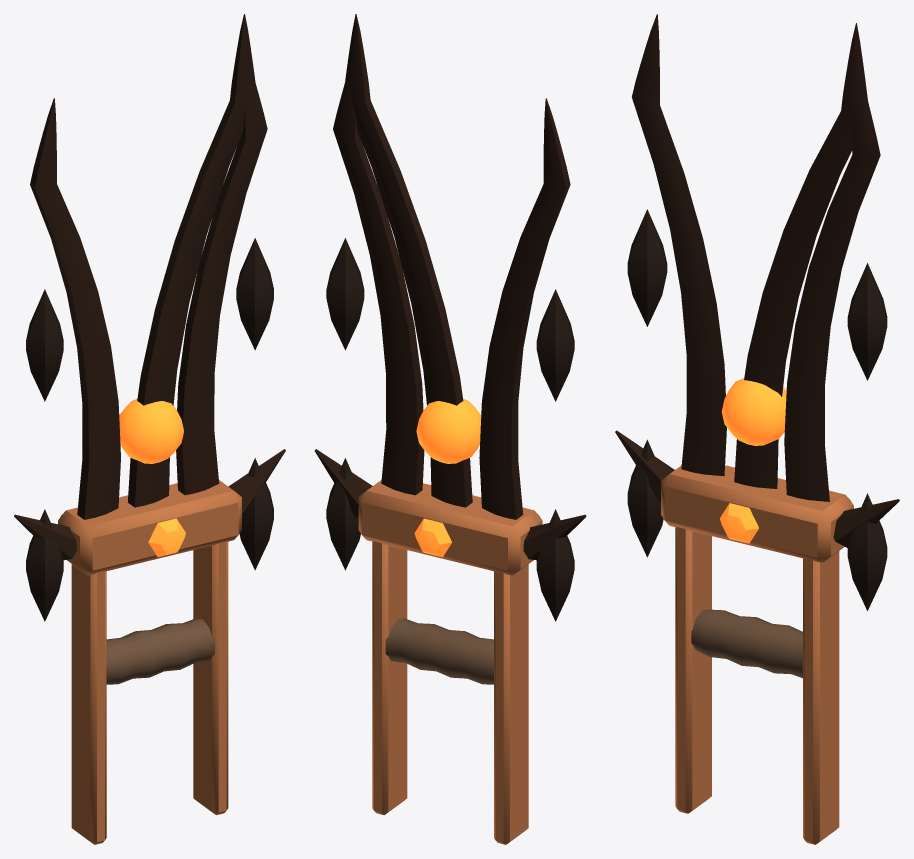
File: asc_elder_wyrm_talon_weapon.glb
3 renders of one model, left to right at view 1: azimuth 30°, elevation 25°; view 2: azimuth 150°, elevation 25°; view 3: azimuth 330°, elevation 25°, orthographic. The views are drawn at different scales.
Visible parts, largest first — view 1: asc_elder_wyrm_talon_weapon; view 2: asc_elder_wyrm_talon_weapon; view 3: asc_elder_wyrm_talon_weapon.
Boxes of the visible parts, left/top/right/bottom form: asc_elder_wyrm_talon_weapon: left=14, top=14, right=285, bottom=844; asc_elder_wyrm_talon_weapon: left=314, top=14, right=586, bottom=844; asc_elder_wyrm_talon_weapon: left=615, top=14, right=899, bottom=844.
Bounding box in the file's own units: 0.2009 × 0.555 × 0.0616.
